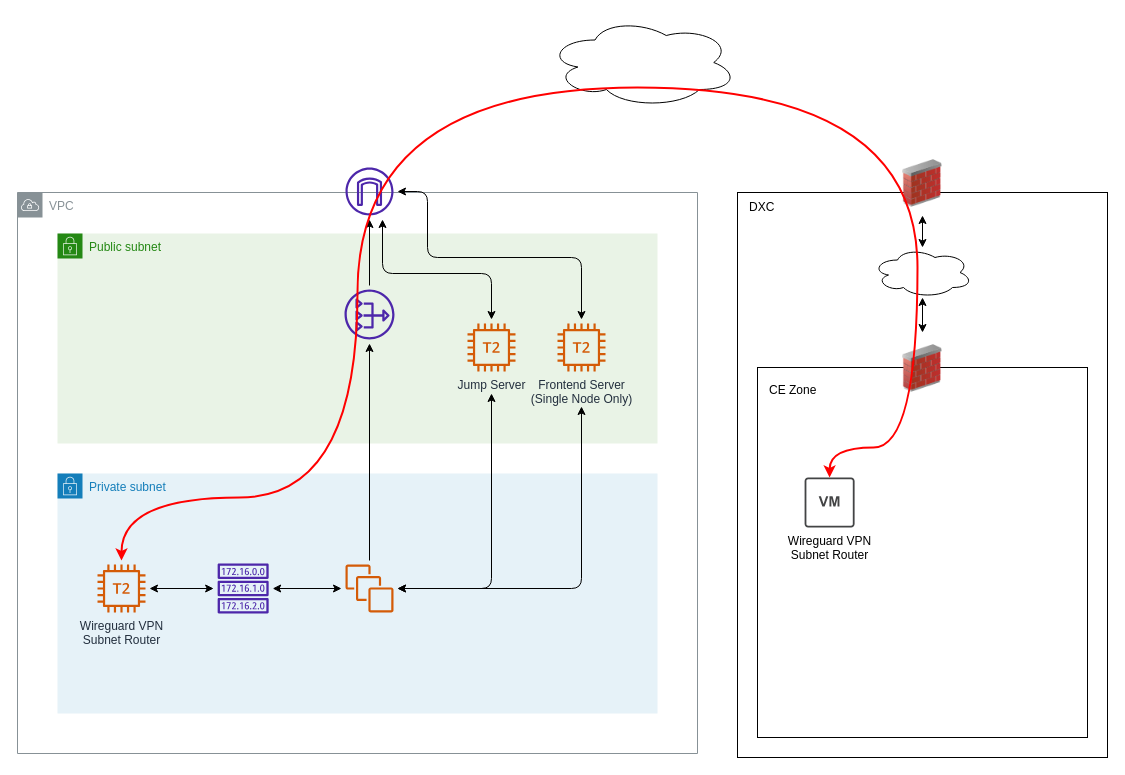
This 1125x775 diagram has some shape labels left out. The centre of each missing label's shape, as x and y in pixels:
CPS SS Core Servers: the point at 369,588
Public Internet: the point at 642,62
SSN: the point at 922,272
